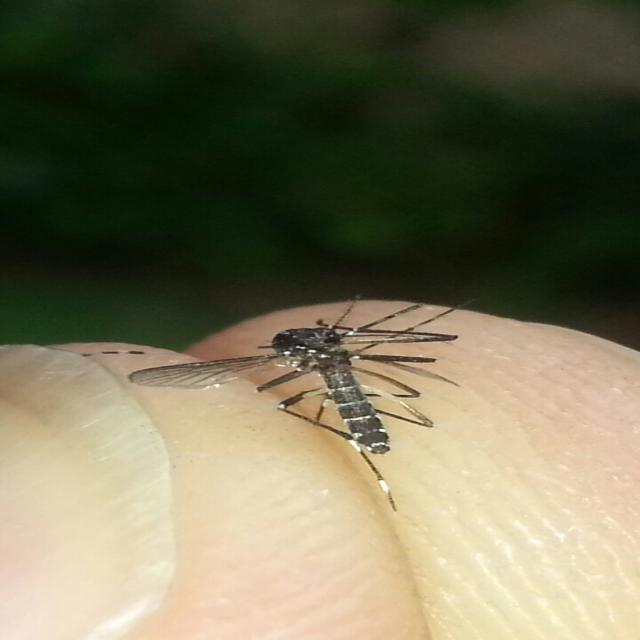albopictus: (125, 294, 474, 514)
